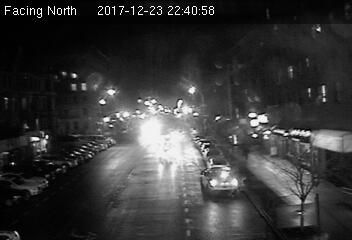car: (200, 166, 237, 194)
